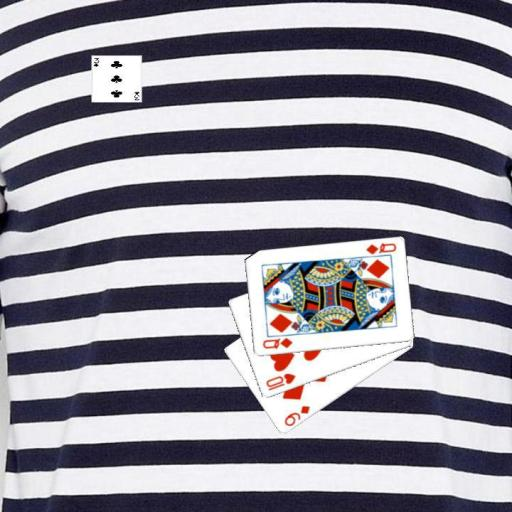10H: (263, 371, 297, 393)
9D: (281, 403, 311, 428)
QD: (260, 334, 294, 351), (363, 240, 398, 256)
